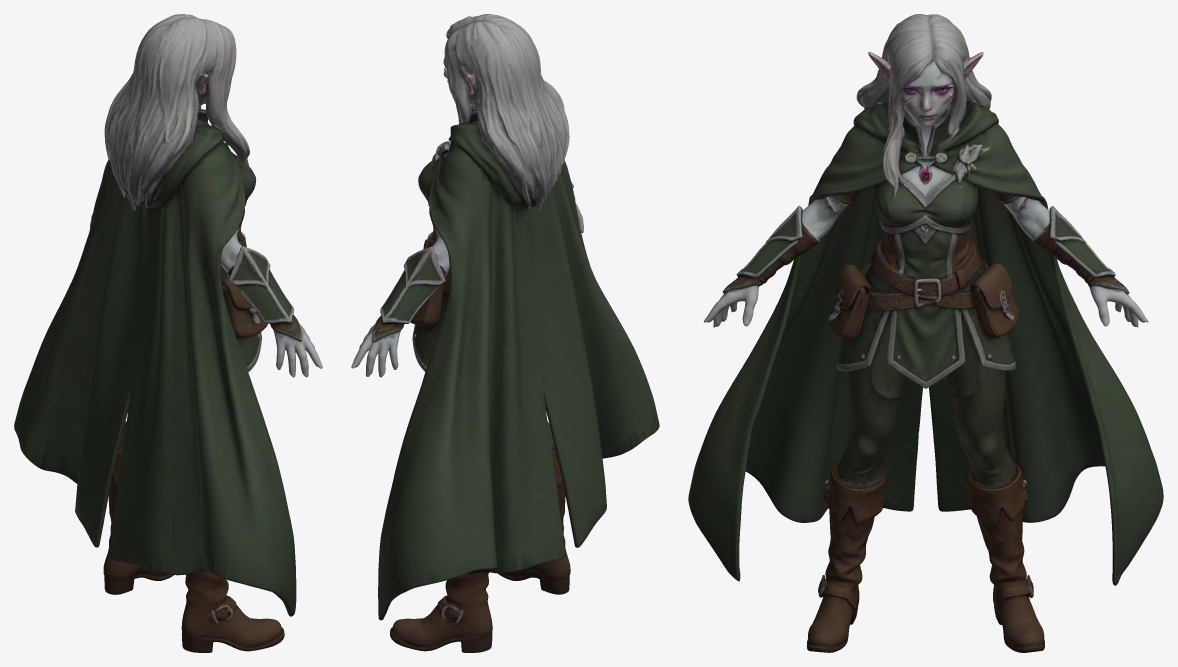
The model's file is aiprintgen_Elf Rogue with Green Cloak and Leather Pouches-preview.glb.
3 renders of one model, left to right at view 1: azimuth 30°, elevation 25°; view 2: azimuth 150°, elevation 25°; view 3: azimuth 270°, elevation 25°, orthographic. The views are drawn at different scales.
Parts seen in each view (by area): view 1: aiprintgen_node_e90545a0-ec43-4238-92ef-22fe83b15650; view 2: aiprintgen_node_e90545a0-ec43-4238-92ef-22fe83b15650; view 3: aiprintgen_node_e90545a0-ec43-4238-92ef-22fe83b15650.
Part boxes in pixels (x1,y1,x2,y2): aiprintgen_node_e90545a0-ec43-4238-92ef-22fe83b15650: [14, 14, 322, 652]; aiprintgen_node_e90545a0-ec43-4238-92ef-22fe83b15650: [351, 14, 659, 652]; aiprintgen_node_e90545a0-ec43-4238-92ef-22fe83b15650: [688, 14, 1163, 652].
Bounding box in the file's own units: 0.2468 × 1 × 0.6992.
1 material, 1 textured.
